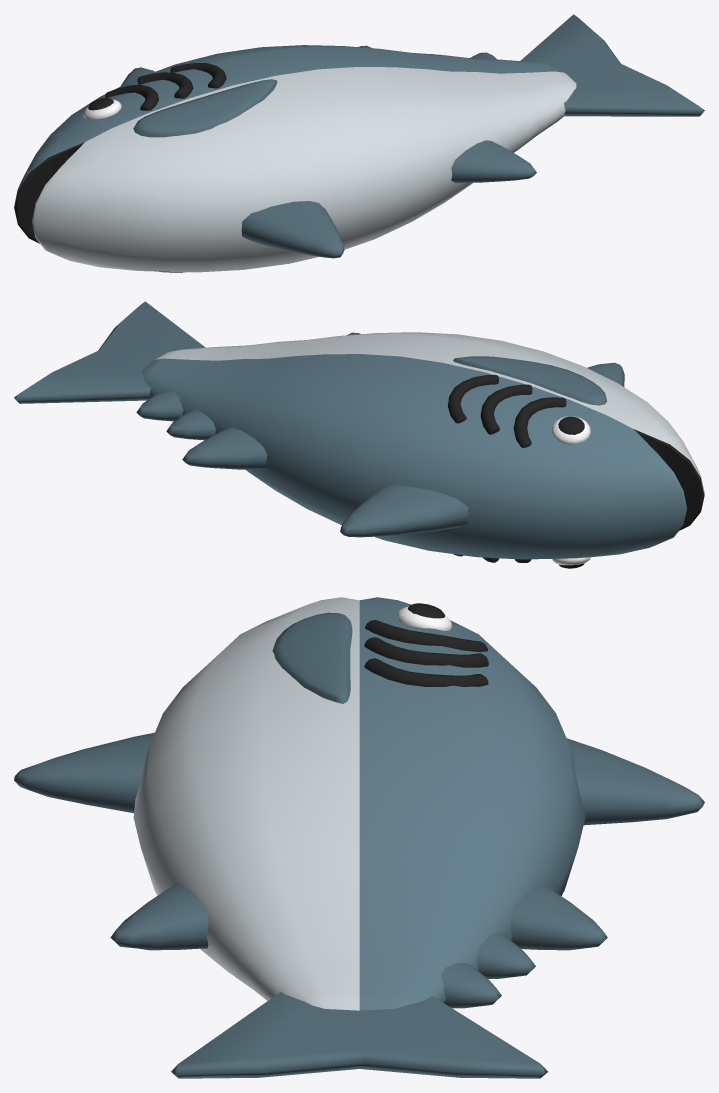
Rendered from Tuna_1.fbx.
3 renders of one model, top to bottom at view 1: azimuth 30°, elevation 25°; view 2: azimuth 150°, elevation 25°; view 3: azimuth 270°, elevation 25°, orthographic. The views are drawn at different scales.
Visible parts, largest first — view 1: Tuna_1; view 2: Tuna_1; view 3: Tuna_1.
Boxes of the visible parts, box(x1,y1,x2,y2) form: Tuna_1: box(14, 14, 704, 272); Tuna_1: box(14, 301, 704, 568); Tuna_1: box(14, 597, 704, 1078).
Size of the model in its own units: 103 by 26.16 by 68.89.
